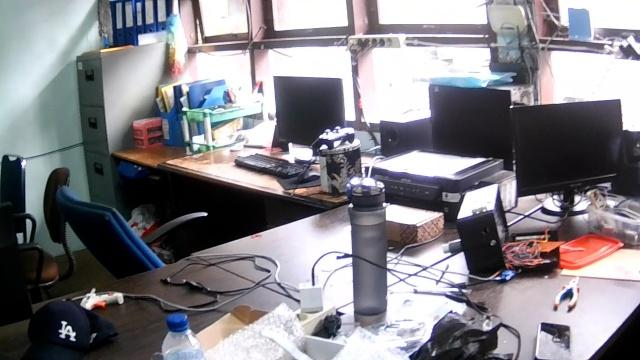AIO PC-Monitor-TV: (508, 98, 623, 196)
Filing Cabinet: (74, 50, 114, 210)
Printer: (362, 148, 515, 222)
